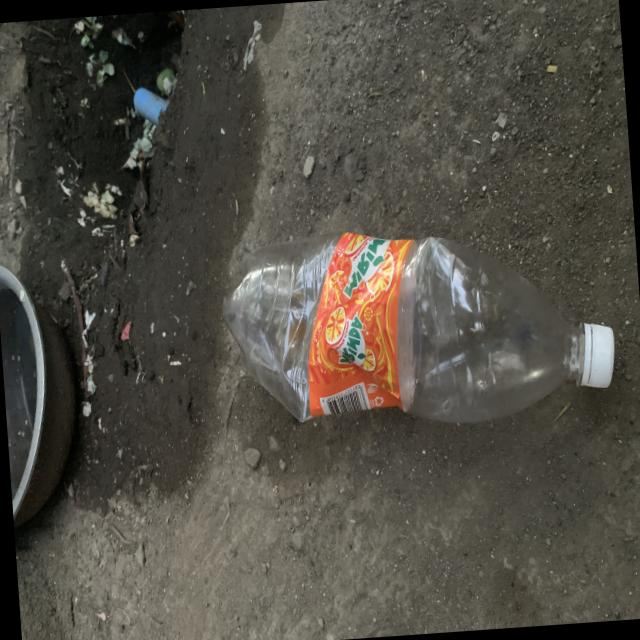Bottle: (223, 232, 614, 421)
